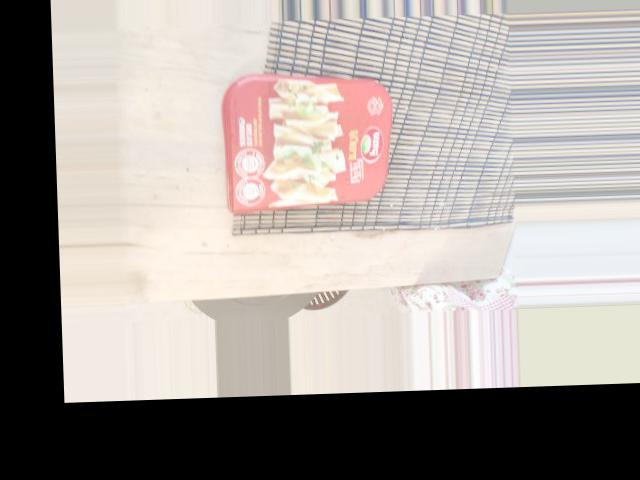cheese: (318, 9, 452, 196)
